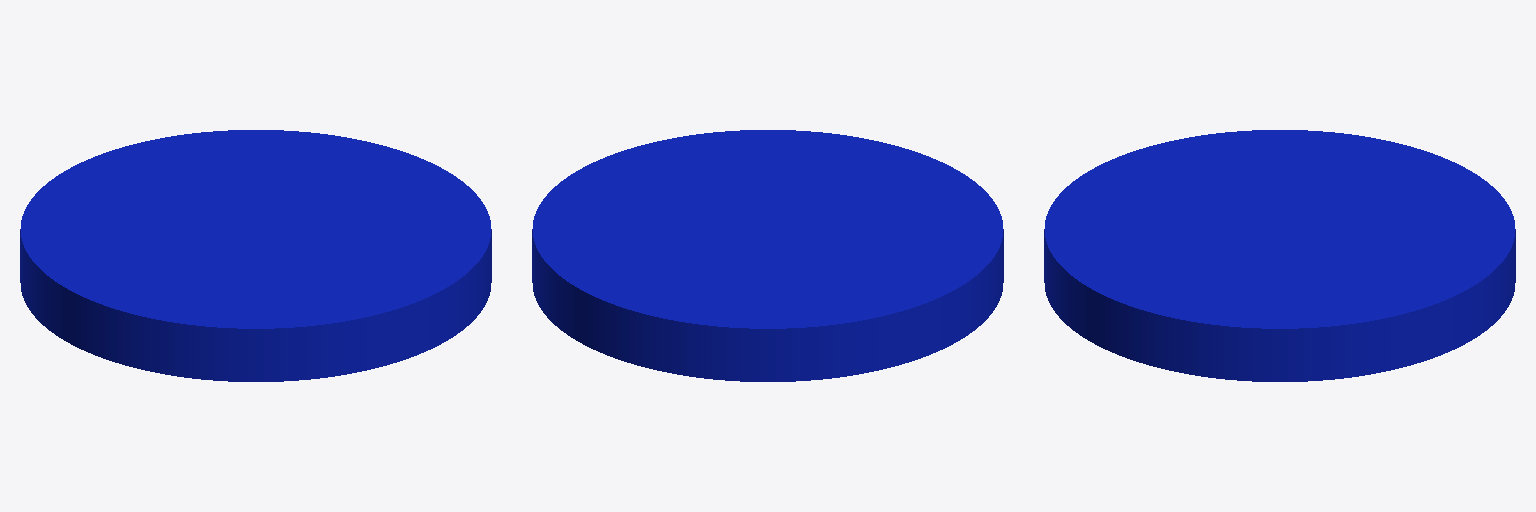
The robot description file, URDF, robot "dojo":
<?xml version="1.0"?>
<robot name="dojo">
  <link name="base_link">
    <contact>
      <lateral_friction value="1"/>
  </contact>
    <visual>
      <origin xyz="0 0 0" rpy="0 0 0" />
      <geometry>
        <mesh filename="dojo.stl"/>
      </geometry>
             <material name="some_color">
        <color rgba="0.1 0.2 0.8 1"/>
      </material>
    </visual>
    <collision>
      <origin xyz="0 0 0" rpy="0 0 0" />
      <geometry>
        <mesh filename="dojo.stl"/>
      </geometry>
    </collision>
    <inertial>
      <mass value="0.2" />
      <inertia ixx="0.01" ixy="0" ixz="0" iyy="0.01" iyz="0" izz="0.01" />
    </inertial>
  </link>
</robot>

--- What the picture shows (computed from the rendered views, not written in the file) ---
The picture shows the robot from 3 angles, left to right: view 1: azimuth 30°, elevation 25°; view 2: azimuth 150°, elevation 25°; view 3: azimuth 270°, elevation 25°; orthographic projection.
Robot: dojo — 1 links, 0 joints (none); root link base_link; default pose: every joint at zero.
Links seen in each view (by area): view 1: base_link; view 2: base_link; view 3: base_link.
Link boxes in pixels (x1,y1,x2,y2): base_link: (20,130,491,381); base_link: (532,130,1003,381); base_link: (1044,130,1515,381).
Bounding box of the posed robot: 4 × 4 × 0.5 m (x, y, z).
1 mesh visuals loaded from 1 distinct referenced files (1 binary STL).